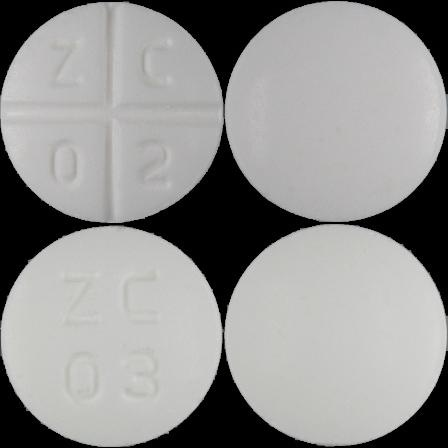68382-041: (0, 0, 224, 224)
